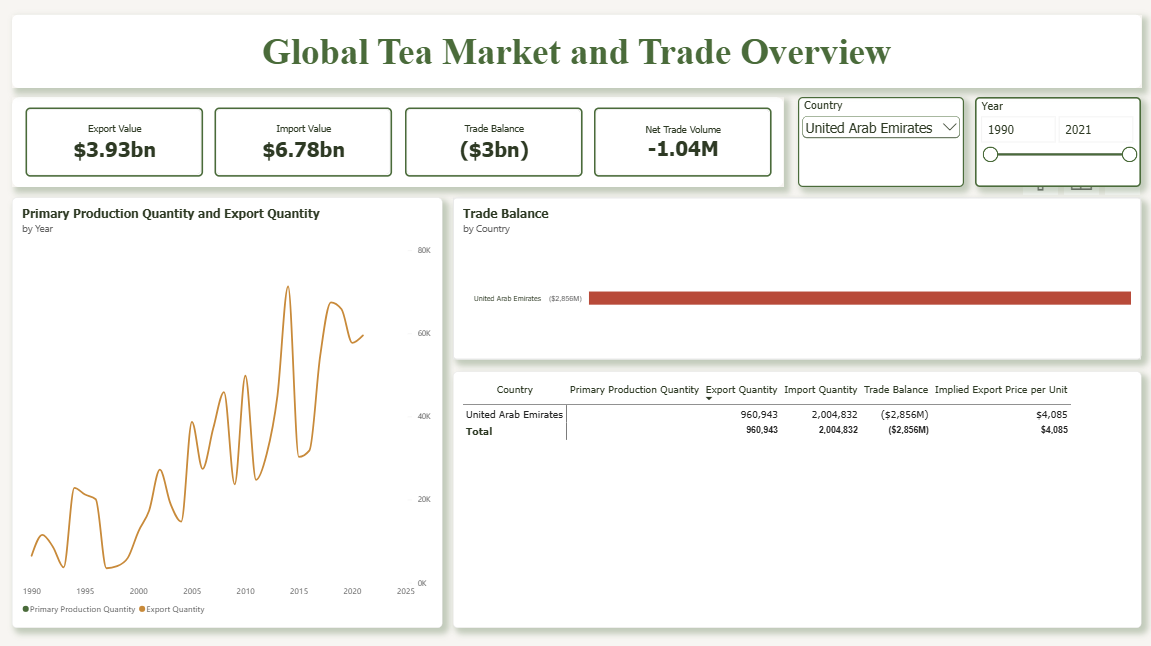

Layout of this report page (visuals, bound fields, positions):
{"tool":"powerbi","page":{"name":"Page 1","canvas":[1920,1080],"ordinal":0},"visuals":[{"type":"shape","box":[19.1,164.6,1286,150.3],"z":0},{"type":"lineChart","fields":{"Category":["Dim_Date.Year"],"Y":["_Measures.Primary Production Quantity"],"Y2":["_Measures.Export Quantity"]},"box":[20,332.5,717.5,717.5],"z":1000},{"type":"clusteredBarChart","fields":{"Category":["Dim_Country.Country"],"Y":["_Measures.Trade Balance"]},"box":[755,332.5,1147.5,270],"z":2000},{"type":"pivotTable","fields":{"Rows":["Dim_Country.Country"],"Values":["_Measures.Primary Production Quantity","_Measures.Export Quantity","_Measures.Import Quantity","_Measures.Trade Balance","_Measures.Implied Export Price per Unit"]},"box":[755,622.5,1147.5,427.5],"z":3000},{"type":"slicer","fields":{"Values":["Dim_Country.Country"]},"box":[1329,164.6,276.8,150.3],"z":4000},{"type":"slicer","fields":{"Values":["Dim_Date.Year"]},"box":[1624.8,164.6,276.8,150.3],"z":5000},{"type":"shape","box":[20,27.5,1882.5,122.5],"z":6000},{"type":"cardVisual","fields":{"Data":["_Measures.Export Value"]},"box":[42.5,182.5,296.2,115],"z":7000},{"type":"cardVisual","fields":{"Data":["_Measures.Import Value"]},"box":[356.2,182.5,296.2,115],"z":8000},{"type":"cardVisual","fields":{"Data":["_Measures.Trade Balance"]},"box":[673.8,182.5,296.2,115],"z":9000},{"type":"cardVisual","fields":{"Data":["_Measures.Net Trade Volume"]},"box":[990,182.5,296.2,115],"z":10000}]}

Visuals, with their boxes in screenshot pixels (x1, y1, x2, y2), scaled from the page's 1920x1080 canvas onto the 1151x646 screenshot:
shape: {"x1": 11, "y1": 98, "x2": 782, "y2": 188}
lineChart - Dim_Date.Year x _Measures.Primary Production Quantity: {"x1": 12, "y1": 199, "x2": 442, "y2": 628}
clusteredBarChart - Dim_Country.Country x _Measures.Trade Balance: {"x1": 453, "y1": 199, "x2": 1141, "y2": 360}
pivotTable - Dim_Country.Country x _Measures.Primary Production Quantity: {"x1": 453, "y1": 372, "x2": 1141, "y2": 628}
slicer - Dim_Country.Country: {"x1": 797, "y1": 98, "x2": 963, "y2": 188}
slicer - Dim_Date.Year: {"x1": 974, "y1": 98, "x2": 1140, "y2": 188}
shape: {"x1": 12, "y1": 16, "x2": 1141, "y2": 90}
cardVisual - _Measures.Export Value: {"x1": 25, "y1": 109, "x2": 203, "y2": 178}
cardVisual - _Measures.Import Value: {"x1": 214, "y1": 109, "x2": 391, "y2": 178}
cardVisual - _Measures.Trade Balance: {"x1": 404, "y1": 109, "x2": 581, "y2": 178}
cardVisual - _Measures.Net Trade Volume: {"x1": 593, "y1": 109, "x2": 771, "y2": 178}
